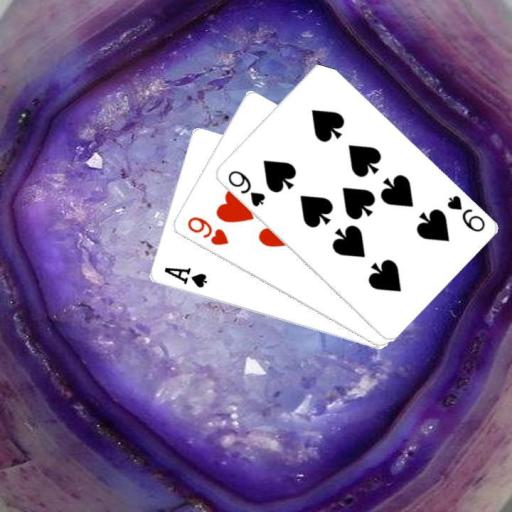9H: (184, 214, 230, 248)
9S: (224, 167, 267, 208), (443, 192, 486, 233)
AS: (160, 264, 208, 289)
